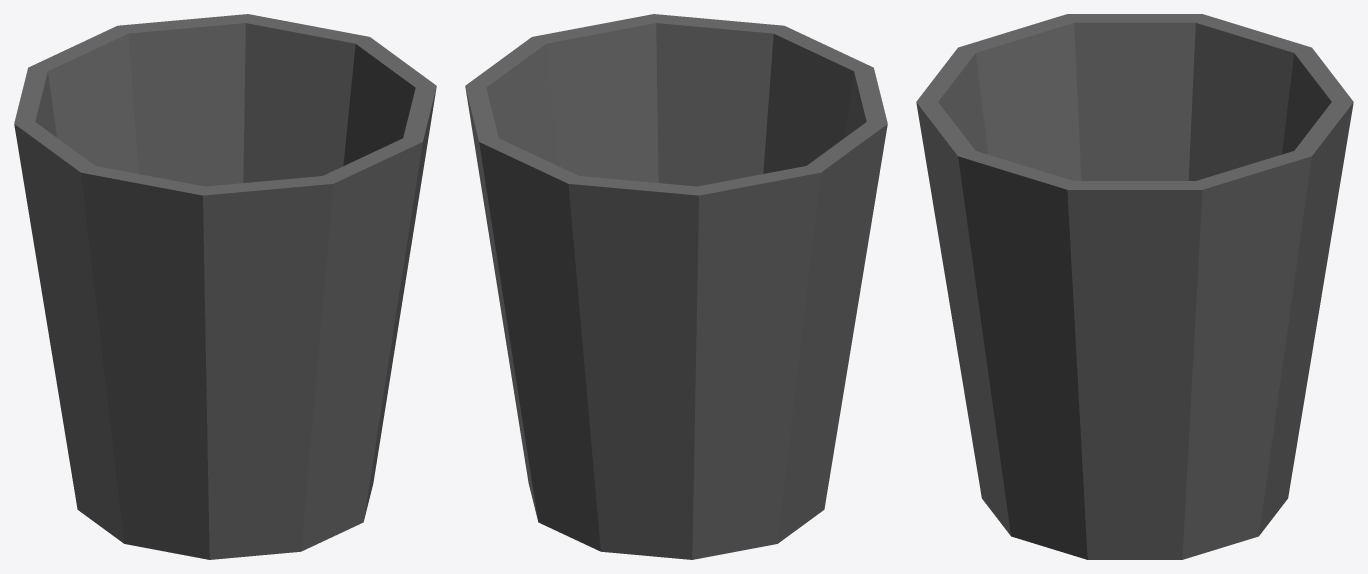
File: bucket.fbx
3 renders of one model, left to right at view 1: azimuth 30°, elevation 25°; view 2: azimuth 150°, elevation 25°; view 3: azimuth 270°, elevation 25°, orthographic.
Parts seen in each view (by area): view 1: Cylinder; view 2: Cylinder; view 3: Cylinder.
Boxes of the visible parts, x1,y1,x2,y2 form: Cylinder: (14, 14, 436, 559); Cylinder: (465, 14, 887, 559); Cylinder: (916, 14, 1353, 559).
Size of the model in its own units: 190 by 200 by 200.
